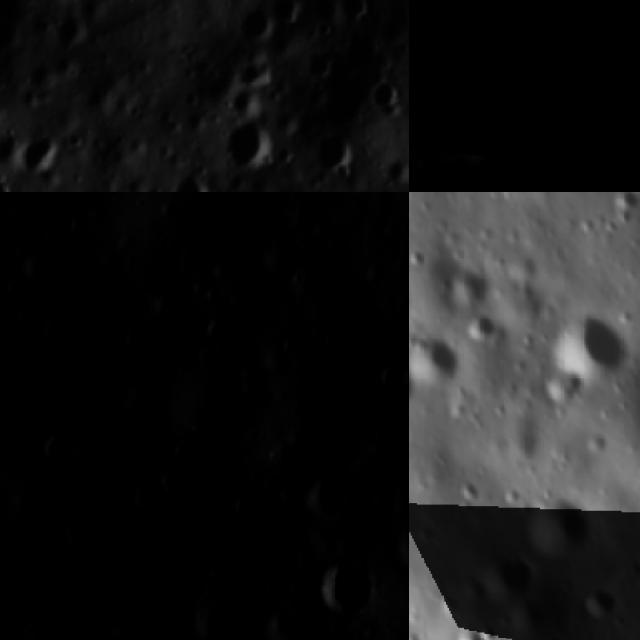crater: (248, 339, 383, 477), (311, 542, 409, 633), (546, 302, 635, 394), (510, 487, 602, 558), (105, 451, 181, 526), (188, 304, 262, 378), (1, 231, 73, 302), (572, 127, 640, 192), (178, 582, 251, 640), (409, 322, 469, 388), (25, 416, 88, 478), (485, 535, 538, 601), (299, 469, 356, 526), (409, 141, 467, 192), (496, 48, 545, 98), (231, 116, 276, 170), (572, 582, 629, 622), (595, 92, 640, 136), (532, 77, 576, 120), (26, 121, 58, 176), (317, 133, 353, 181), (512, 587, 552, 630), (467, 308, 507, 348), (373, 69, 406, 113), (465, 170, 529, 192), (425, 0, 472, 27), (240, 5, 273, 43), (53, 14, 88, 46), (343, 0, 374, 27), (450, 621, 490, 640), (608, 192, 640, 215), (174, 170, 205, 192), (539, 623, 571, 640), (275, 0, 297, 24), (0, 175, 12, 192)
